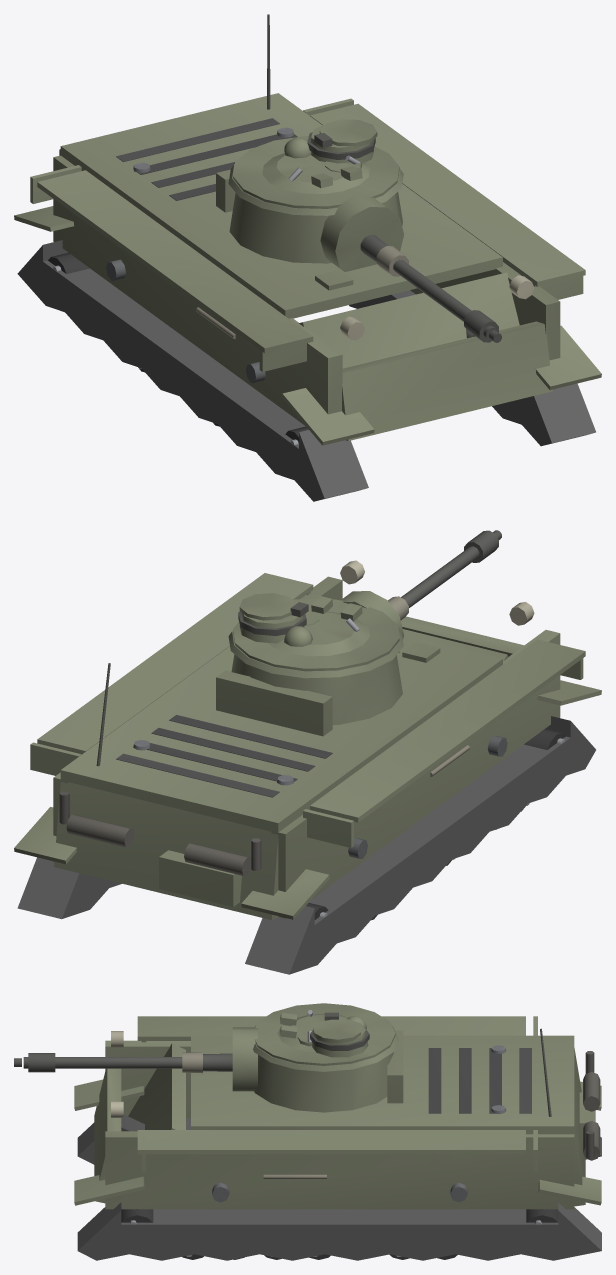
3 renders of one model, top to bottom at view 1: azimuth 30°, elevation 25°; view 2: azimuth 150°, elevation 25°; view 3: azimuth 270°, elevation 25°, orthographic. The views are drawn at different scales.
Visible parts, largest first — view 1: hullSide, tracks, hullTop, lowerPlate, turretRoof, glacis, turretFront, mantlet, barrel, turretSide, turretRear; view 2: hullSide, hullTop, tracks, hullRear, turretRoof, turretRear, turretFront, barrel, lowerPlate, turretSide, glacis, mantlet; view 3: hullSide, tracks, hullTop, turretRoof, turretFront, glacis, barrel, hullRear, lowerPlate, mantlet, turretSide, turretRear (+2 smaller).
Part boxes in pixels (x1,y1,x2,y2): hullSide: (30, 98, 585, 425); tracks: (14, 206, 601, 501); hullTop: (60, 93, 502, 318); lowerPlate: (342, 321, 552, 440); turretRoof: (233, 119, 399, 208); glacis: (299, 270, 519, 368); turretFront: (229, 192, 402, 263); mantlet: (320, 196, 403, 271); barrel: (360, 234, 501, 342); turretSide: (228, 164, 403, 215); turretRear: (216, 169, 235, 212); hullSide: (30, 560, 585, 918); hullTop: (60, 635, 502, 832); tracks: (14, 680, 601, 974); hullRear: (54, 663, 279, 919); turretRoof: (233, 593, 399, 671); turretRear: (216, 670, 332, 736); turretFront: (231, 654, 402, 725); barrel: (387, 530, 501, 620); lowerPlate: (401, 616, 523, 656); turretSide: (228, 627, 403, 678); glacis: (402, 629, 508, 662); mantlet: (341, 591, 404, 652); hullSide: (105, 1016, 574, 1209); tracks: (74, 1079, 601, 1260); hullTop: (191, 1035, 574, 1134); turretRoof: (255, 1003, 395, 1065); turretFront: (254, 1052, 393, 1112); glacis: (121, 1043, 185, 1131); barrel: (14, 1052, 232, 1073); hullRear: (540, 1028, 600, 1206); lowerPlate: (94, 1068, 121, 1203); mantlet: (232, 1027, 257, 1091); turretSide: (253, 1026, 398, 1071); turretRear: (387, 1030, 403, 1103).
Size of the model in its own units: 3.98 by 2.92 by 7.4.
